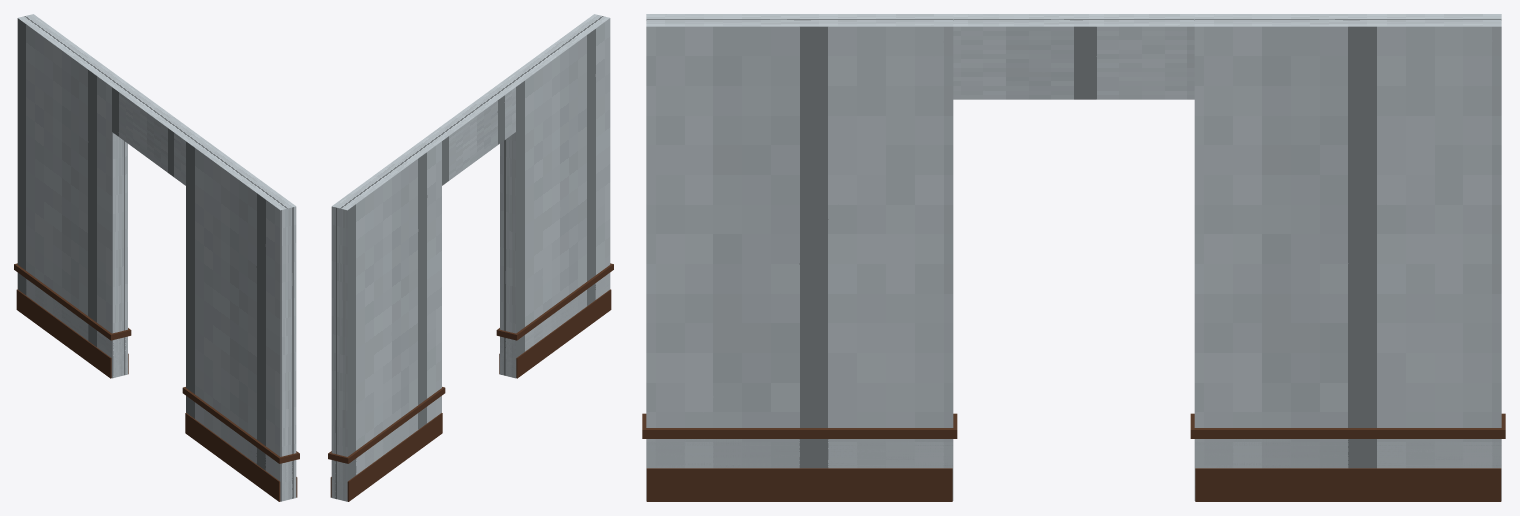
The model's file is dining_kitchen.glb.
The picture shows the model from 3 angles, left to right: view 1: azimuth 30°, elevation 25°; view 2: azimuth 150°, elevation 25°; view 3: azimuth 270°, elevation 25°; orthographic projection. The views are drawn at different scales.
Visible parts, largest first — view 1: Box3, Box1, Box5, Box4, Box2, Box6, Box7, Box9; view 2: Box1, Box3, Box5, Box2, Box4, Box8, Box7, Box9; view 3: Box3, Box1, Box5, Box2, Box4, Box6, Box8, Box7, Box9.
Part boxes in pixels (x1,y1,x2,y2): Box3: [186, 137, 296, 501]; Box1: [17, 14, 127, 378]; Box5: [112, 83, 201, 185]; Box4: [185, 413, 297, 501]; Box2: [16, 289, 128, 378]; Box6: [17, 273, 127, 377]; Box7: [14, 263, 131, 340]; Box9: [182, 387, 299, 463]; Box1: [331, 137, 441, 501]; Box3: [500, 14, 610, 378]; Box5: [426, 83, 515, 185]; Box2: [330, 413, 442, 501]; Box4: [499, 289, 611, 378]; Box8: [500, 275, 609, 377]; Box7: [328, 387, 445, 463]; Box9: [496, 263, 613, 340]; Box3: [646, 14, 953, 500]; Box1: [1194, 14, 1501, 500]; Box5: [953, 14, 1194, 99]; Box2: [1195, 468, 1501, 501]; Box4: [646, 468, 952, 501]; Box6: [1194, 439, 1501, 500]; Box8: [646, 439, 953, 495]; Box7: [1190, 413, 1505, 438]; Box9: [642, 413, 957, 438].
Size of the model in its own units: 0.19 by 2.6 by 4.29.
2 materials, 1 textured.
